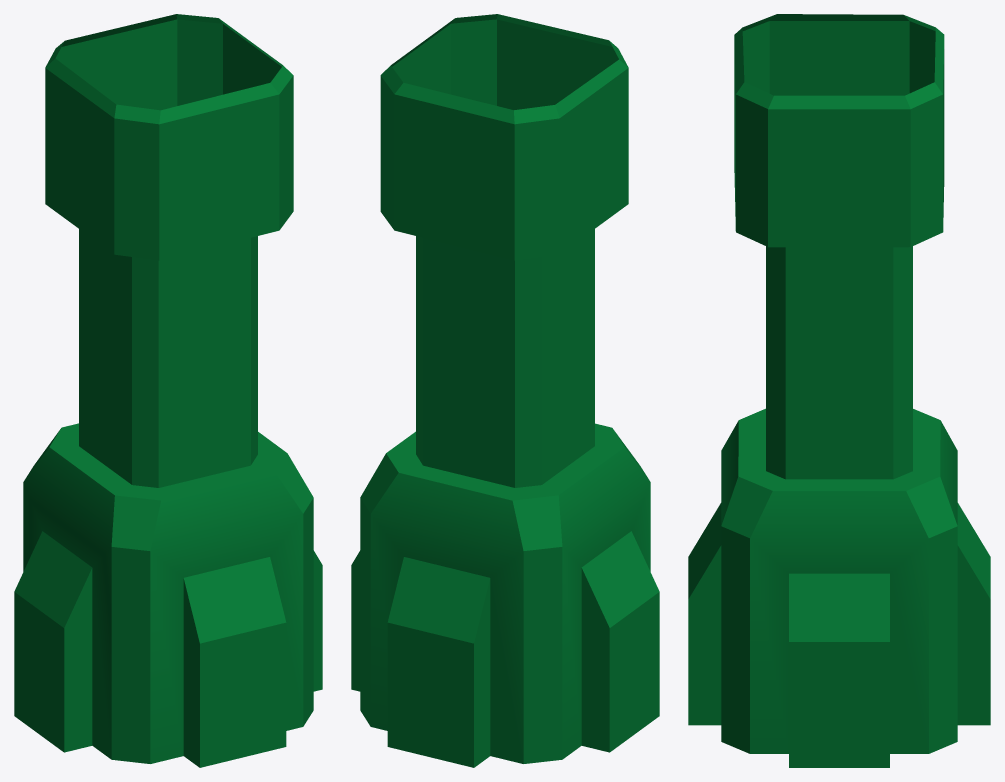
File: mesh_BuildingA_PillarBase_v2.fbx
3 views of the same model, side by side, from view 1: azimuth 30°, elevation 25°; view 2: azimuth 150°, elevation 25°; view 3: azimuth 270°, elevation 25° (orthographic).
Visible parts, largest first — view 1: mesh_BuildingA_PillarBase; view 2: mesh_BuildingA_PillarBase; view 3: mesh_BuildingA_PillarBase.
Boxes of the visible parts, bbox=[...] form: mesh_BuildingA_PillarBase: bbox=[14, 14, 322, 767]; mesh_BuildingA_PillarBase: bbox=[351, 14, 659, 767]; mesh_BuildingA_PillarBase: bbox=[688, 14, 990, 767].
Size of the model in its own units: 84.51 by 200 by 84.51.
